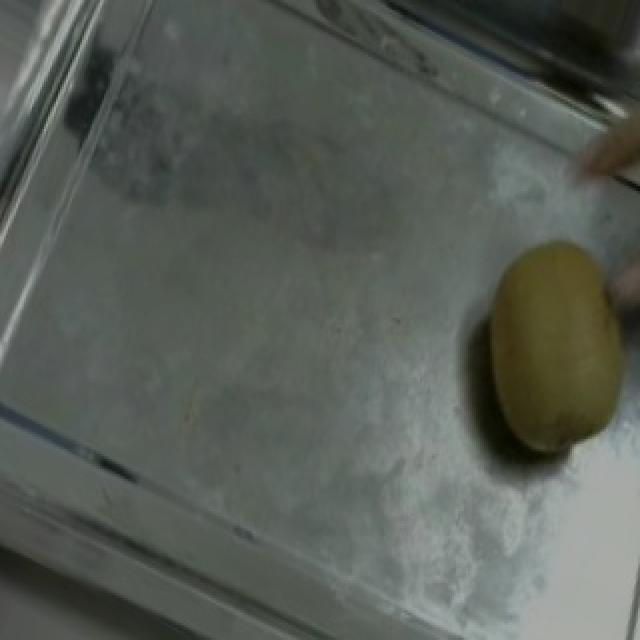Fruit: (440, 206, 640, 486)
